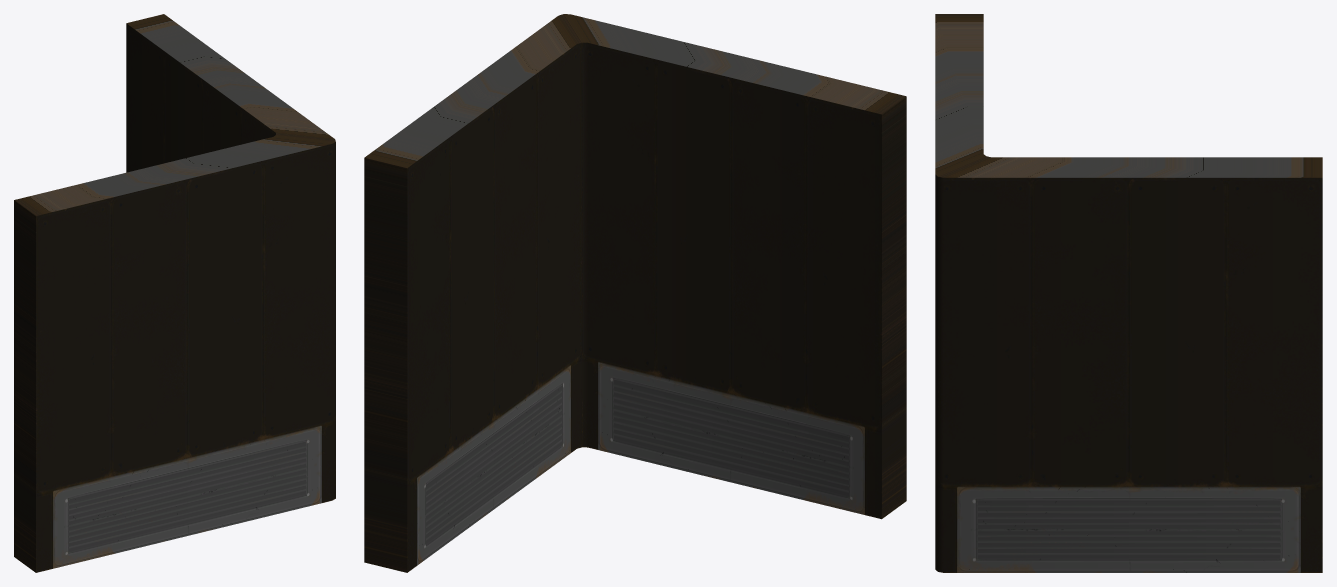
The model's file is Wall_Yellow02_BorderIn.dae.
3 views of the same model, side by side, from view 1: azimuth 30°, elevation 25°; view 2: azimuth 150°, elevation 25°; view 3: azimuth 270°, elevation 25° (orthographic). The views are drawn at different scales.
Parts seen in each view (by area): view 1: polySurface6; view 2: polySurface6; view 3: polySurface6.
Part boxes in pixels (bbox=[...]): polySurface6: bbox=[14, 14, 335, 572]; polySurface6: bbox=[364, 14, 906, 572]; polySurface6: bbox=[935, 14, 1322, 572].
Size of the model in its own units: 4 by 4.5 by 4.
Materials: 1 (1 with a texture image).
